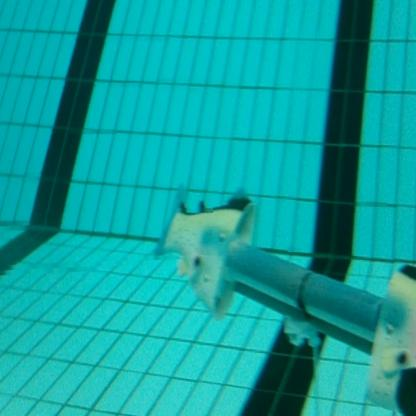tail: (156, 179, 261, 323)
